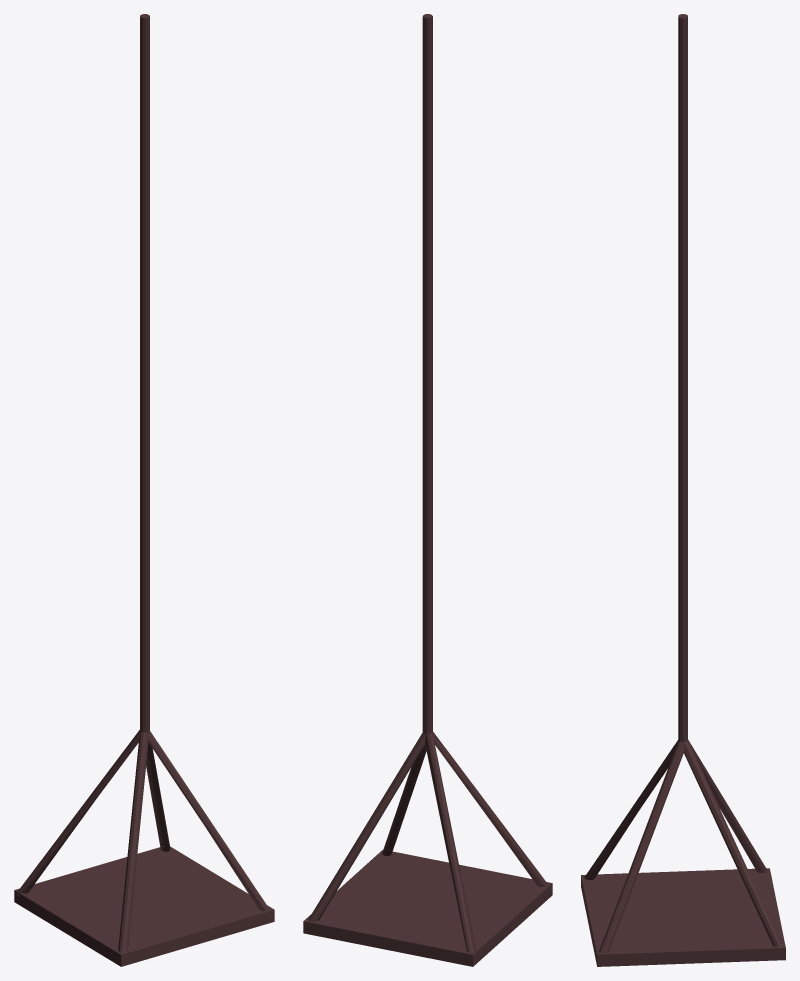
Rendered from NIVEL1_LUCES_plat2.fbx.
The picture shows the model from 3 angles, left to right: view 1: azimuth 30°, elevation 25°; view 2: azimuth 150°, elevation 25°; view 3: azimuth 270°, elevation 25°; orthographic projection.
Parts seen in each view (by area): view 1: Cylinder.001; view 2: Cylinder.001; view 3: Cylinder.001.
Part boxes in pixels (<box>): Cylinder.001: <box>14,14,274,966</box>; Cylinder.001: <box>303,14,552,966</box>; Cylinder.001: <box>581,14,785,966</box>.
Bounding box in the file's own units: 130 × 634 × 130.
